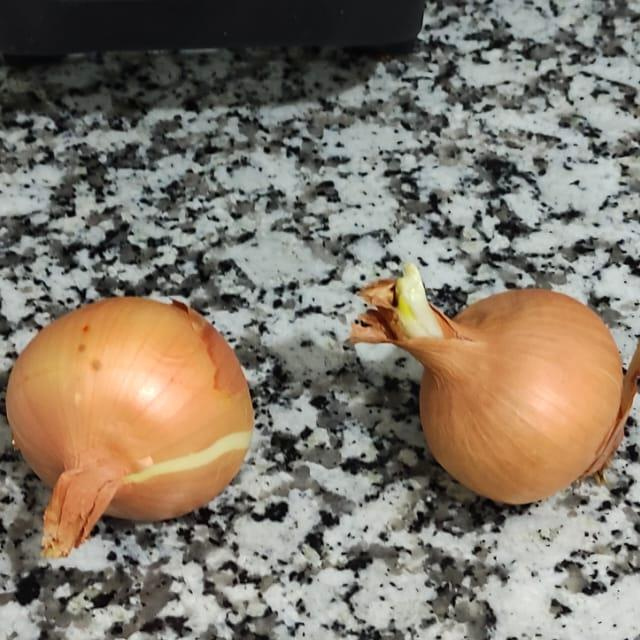onion: (0, 282, 290, 579), (333, 242, 640, 522)
